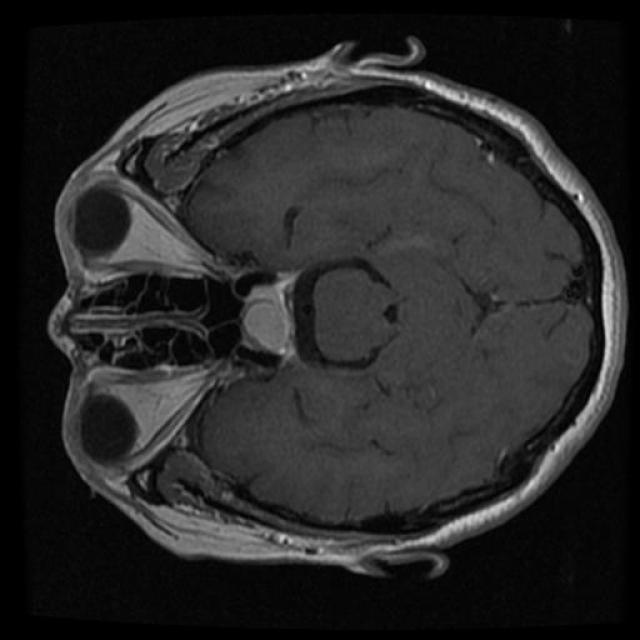Pituitary: (231, 270, 305, 367)
